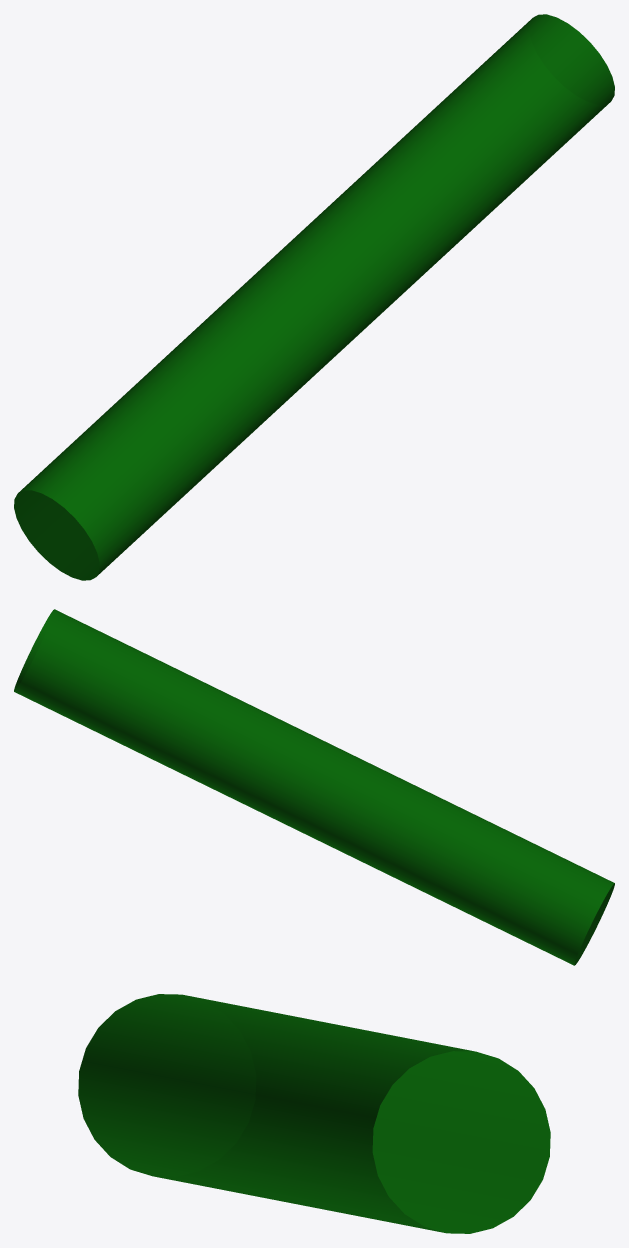
Rendered from Event_105588474_jet_2.fbx.
The picture shows the model from 3 angles, top to bottom: view 1: azimuth 30°, elevation 25°; view 2: azimuth 150°, elevation 25°; view 3: azimuth 270°, elevation 25°; orthographic projection. The views are drawn at different scales.
Parts seen in each view (by area): view 1: Model; view 2: Model; view 3: Model.
Boxes of the visible parts, x1,y1,x2,y2 form: Model: (14, 14, 614, 580); Model: (14, 609, 614, 965); Model: (78, 994, 550, 1233).
Size of the model in its own units: 0.2617 by 0.1374 by 0.1026.
